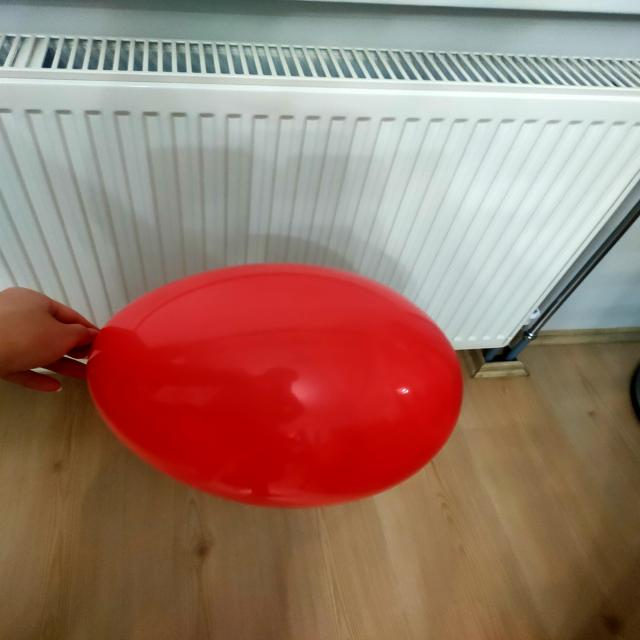red: (94, 264, 464, 507)
